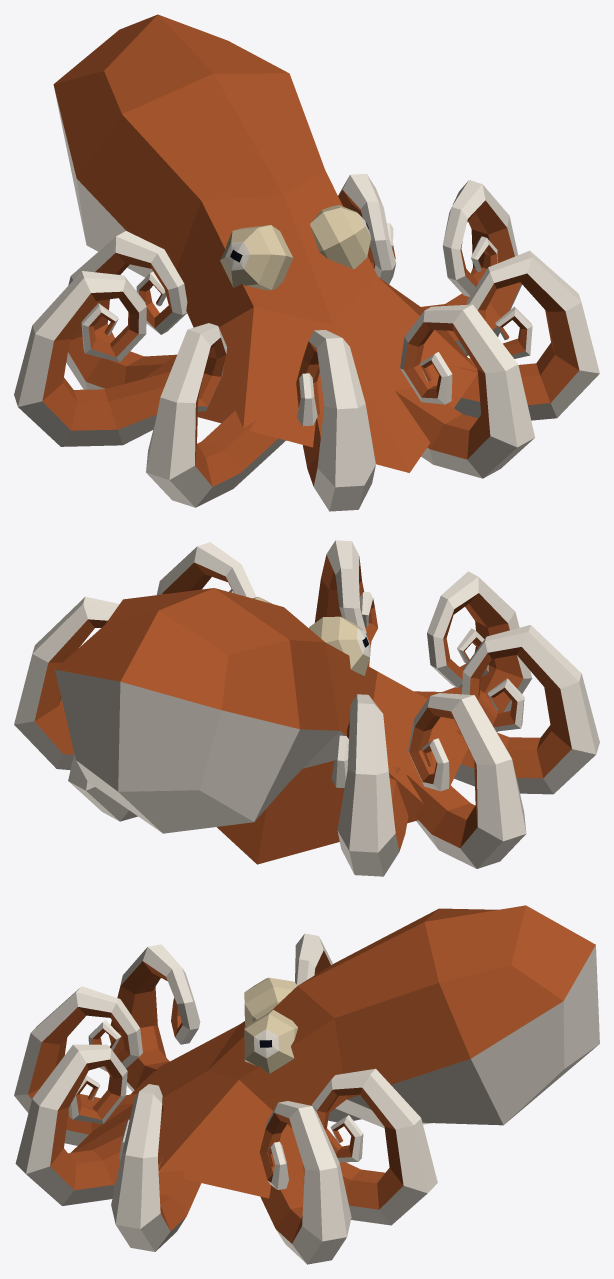
3 views of the same model, one above another, from view 1: azimuth 30°, elevation 25°; view 2: azimuth 150°, elevation 25°; view 3: azimuth 270°, elevation 25° (orthographic). The views are drawn at different scales.
Parts seen in each view (by area): view 1: Geo_Octopus; view 2: Geo_Octopus; view 3: Geo_Octopus.
Boxes of the visible parts, x1=… form: Geo_Octopus: x1=14, y1=14, x2=599, y2=511; Geo_Octopus: x1=14, y1=540, x2=599, y2=876; Geo_Octopus: x1=14, y1=905, x2=599, y2=1264.
Bounding box in the file's own units: 93.08 × 57.34 × 102.
1 material, 1 textured.
